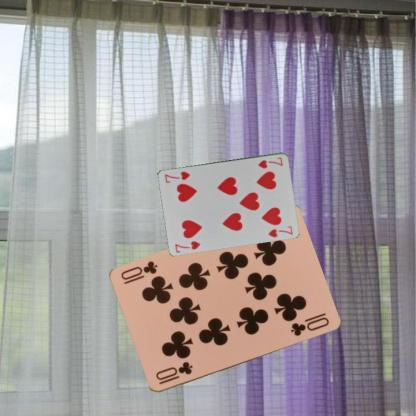10c: (152, 359, 194, 386)
7h: (172, 238, 202, 254), (255, 154, 284, 170)
